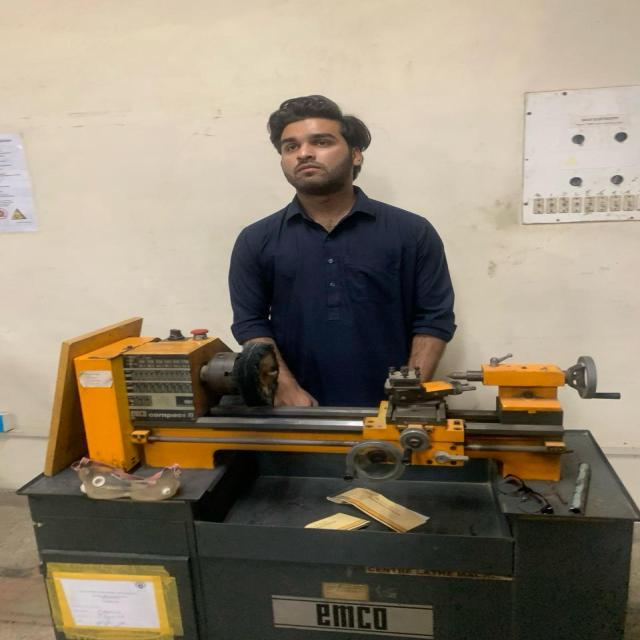dress: (225, 180, 463, 412)
